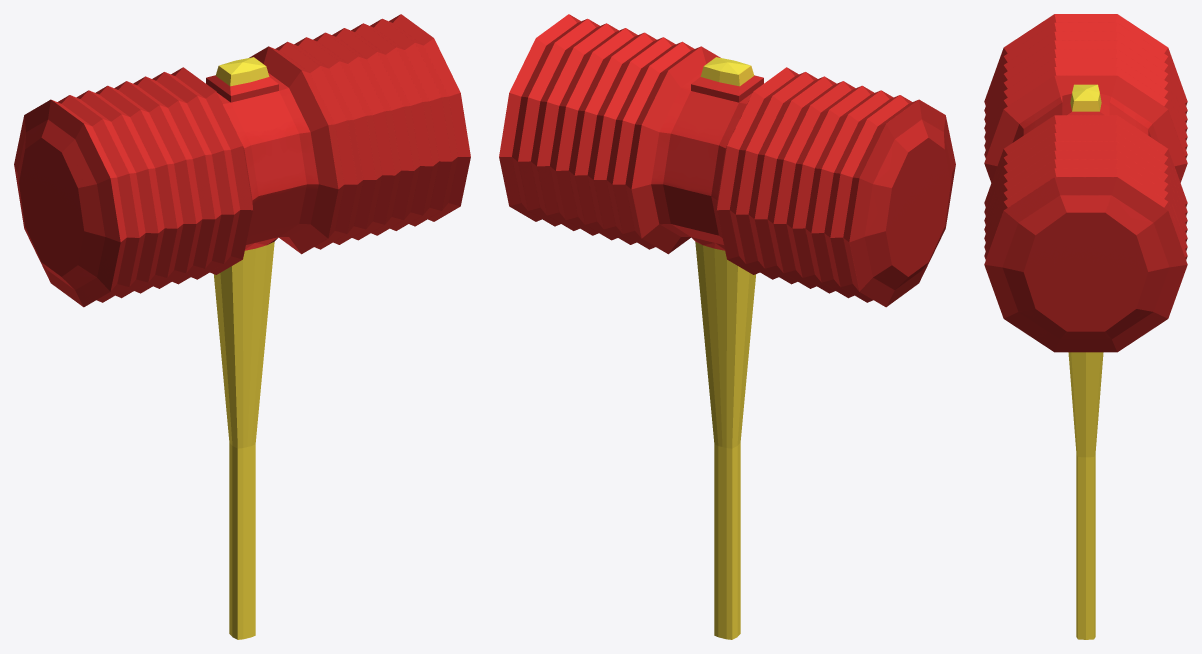
The model's file is pikopiko.fbx.
The picture shows the model from 3 angles, left to right: view 1: azimuth 30°, elevation 25°; view 2: azimuth 150°, elevation 25°; view 3: azimuth 270°, elevation 25°; orthographic projection. The views are drawn at different scales.
Visible parts, largest first — view 1: PIKOPIKO; view 2: PIKOPIKO; view 3: PIKOPIKO.
Boxes of the visible parts, x1,y1,x2,y2 form: PIKOPIKO: (14, 14, 470, 639); PIKOPIKO: (499, 14, 955, 639); PIKOPIKO: (984, 14, 1187, 639).
Size of the model in its own units: 393 by 565 by 190.
Materials: 1 (1 with a texture image).
